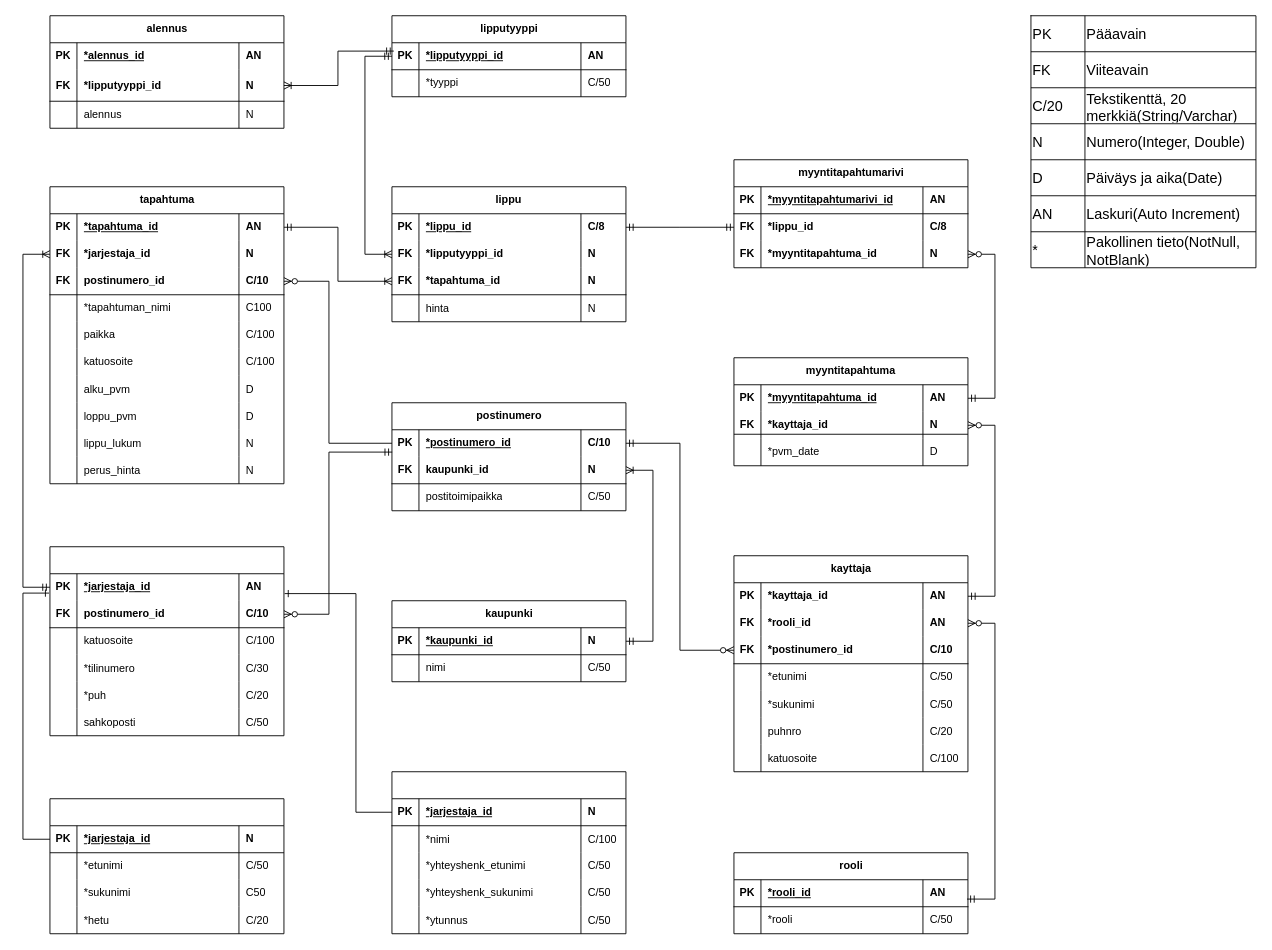
This 1272x950 diagram has some shape labels left out. The shapes that lost their labels are listed below. From the top down, each one's box as (x1, y1, x2, y2) in pixels, then its label:
(49, 546, 284, 736): tapahtumajarjestaja
(49, 798, 284, 934): tapahtumajarjestaja_henkilo
(391, 771, 626, 934): tapahtumajarjestaja_yritys
